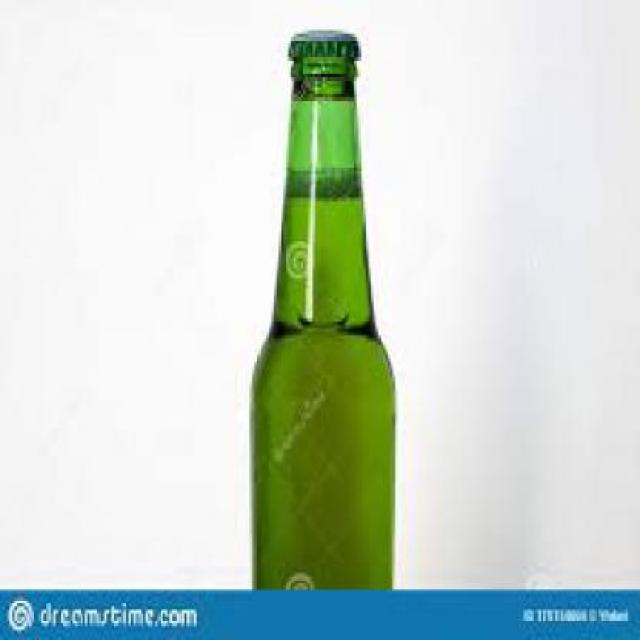GLASS: (250, 53, 393, 587)
METAL: (286, 27, 357, 56)
